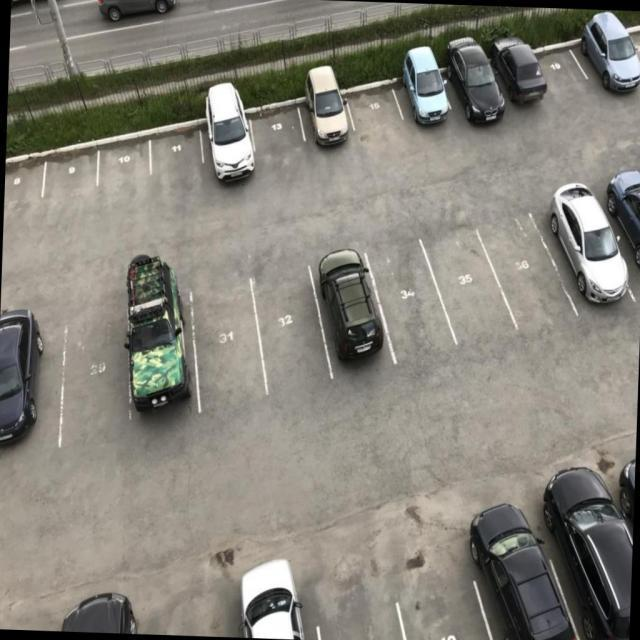car: (544, 196, 622, 331), (559, 502, 634, 640), (124, 291, 196, 431), (312, 249, 392, 374), (484, 530, 564, 640), (0, 331, 64, 461), (196, 109, 262, 195), (574, 23, 640, 108), (394, 55, 456, 141), (486, 38, 546, 124), (444, 50, 502, 138), (301, 82, 361, 162), (604, 178, 640, 300), (245, 606, 322, 640)
free: (484, 208, 564, 336), (430, 227, 512, 351), (188, 289, 270, 408), (368, 249, 448, 365), (253, 277, 329, 392), (53, 318, 129, 431), (404, 558, 488, 640), (328, 574, 410, 640), (344, 74, 404, 158), (246, 101, 306, 172), (38, 152, 104, 215), (530, 44, 592, 108), (146, 131, 206, 192), (95, 140, 150, 194), (2, 162, 38, 239), (626, 18, 640, 89)
